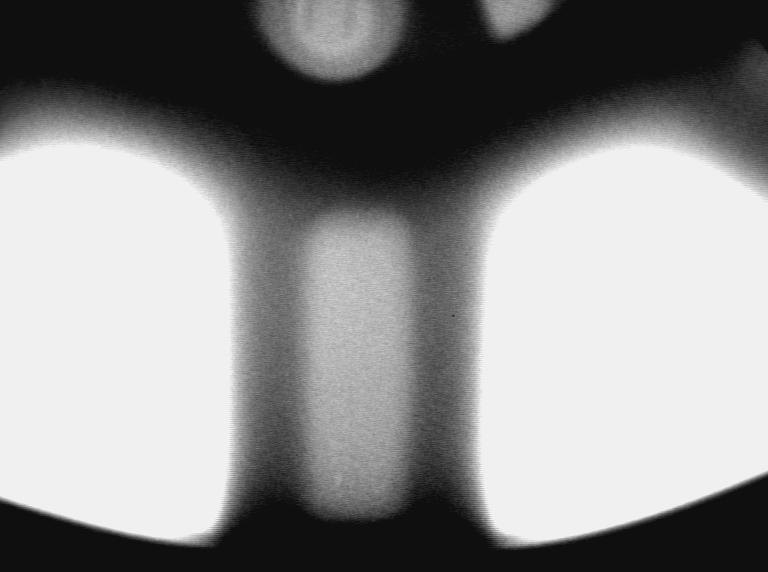defect: (327, 456, 350, 492)
